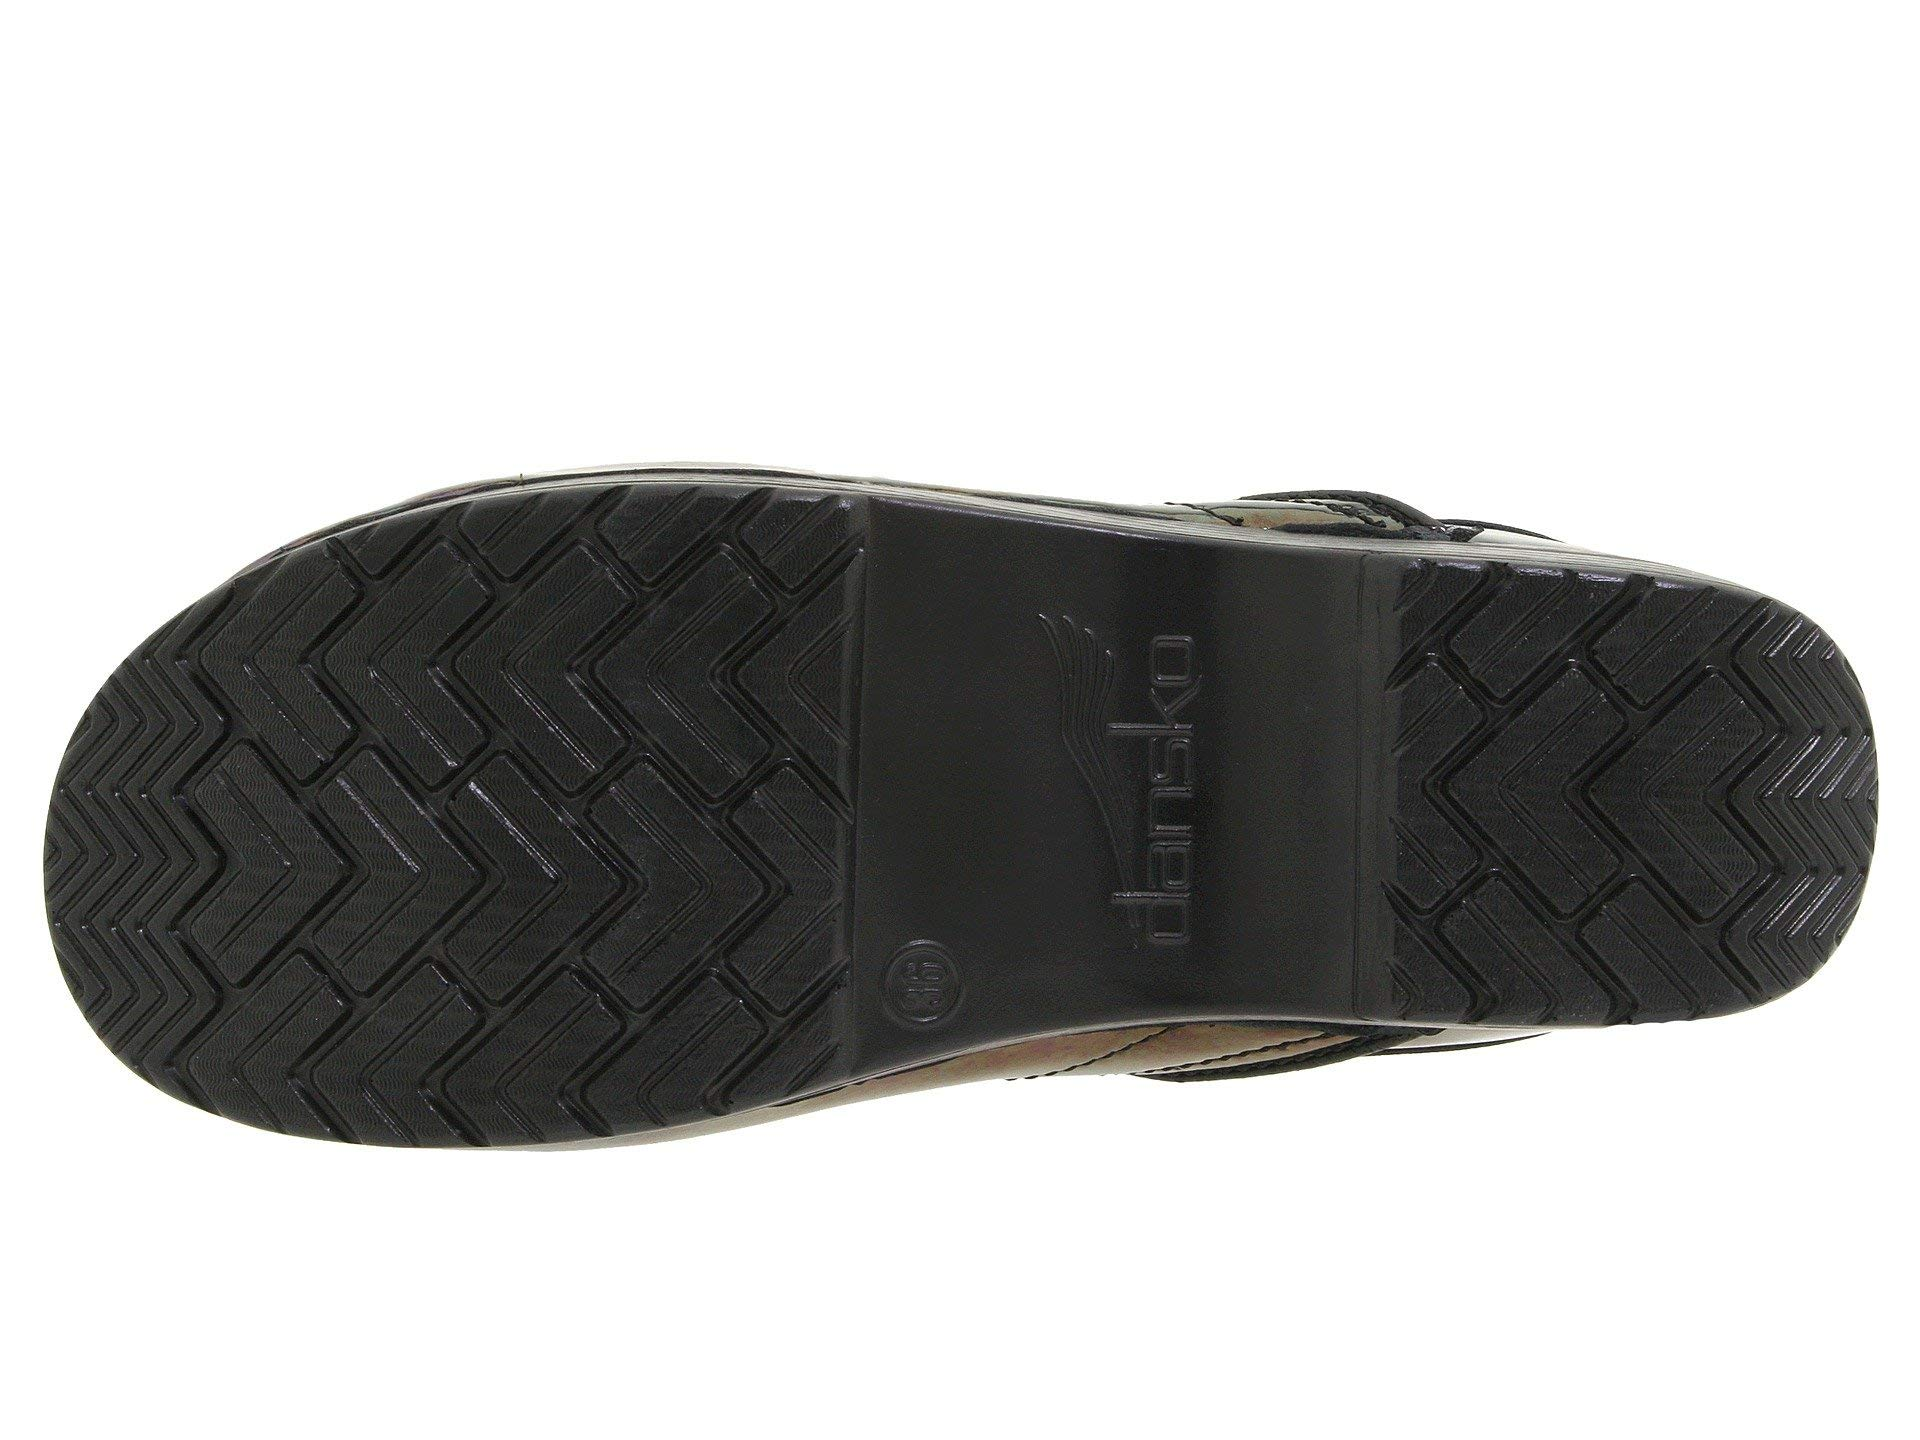chevron: (255, 526, 865, 1124), (1401, 591, 1834, 976), (63, 787, 181, 1057), (101, 650, 187, 768)
exclude: (841, 508, 1398, 1077)
